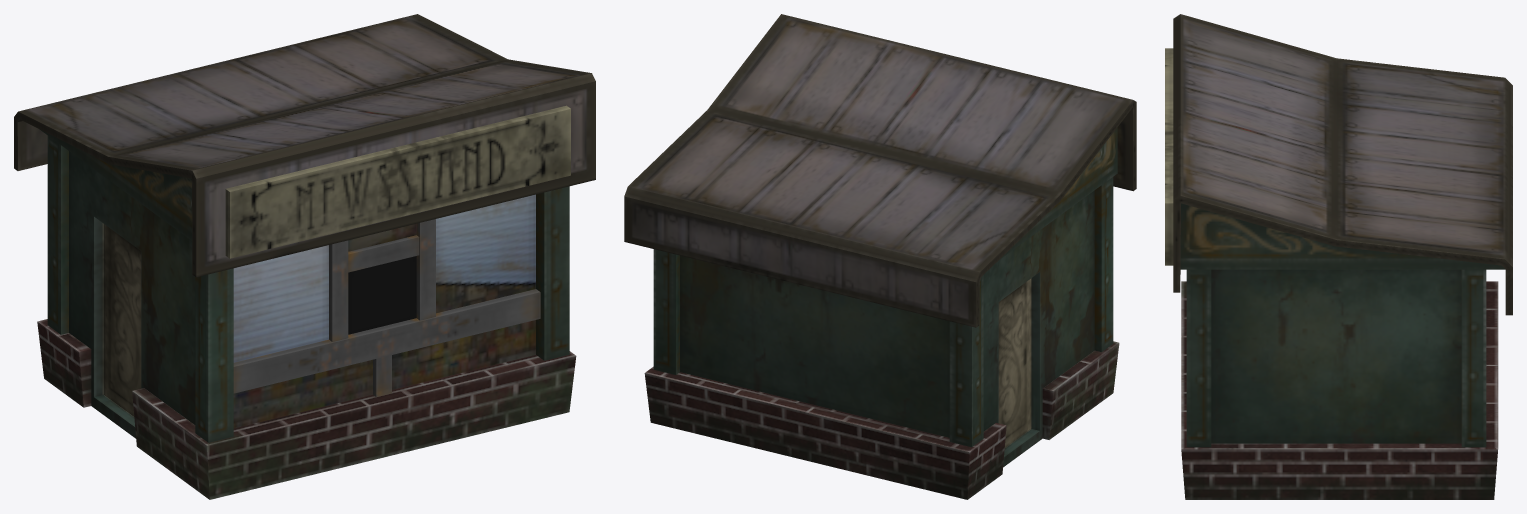
Rendered from kiosk.dae.
The picture shows the model from 3 angles, left to right: view 1: azimuth 30°, elevation 25°; view 2: azimuth 150°, elevation 25°; view 3: azimuth 270°, elevation 25°; orthographic projection. The views are drawn at different scales.
Parts seen in each view (by area): view 1: Kiosk; view 2: Kiosk; view 3: Kiosk.
Part boxes in pixels (bbox=[...]): Kiosk: bbox=[14, 14, 595, 499]; Kiosk: bbox=[624, 14, 1136, 499]; Kiosk: bbox=[1165, 14, 1512, 499].
Bounding box in the file's own units: 2.1 × 1.7 × 1.69.
Materials: 1 (1 with a texture image).
